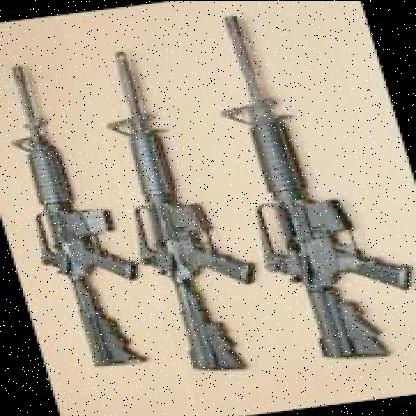rifle: (188, 0, 416, 366), (78, 37, 274, 383), (0, 56, 163, 378)
